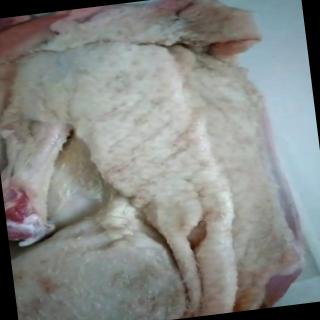Ayam: (1, 1, 311, 320)
